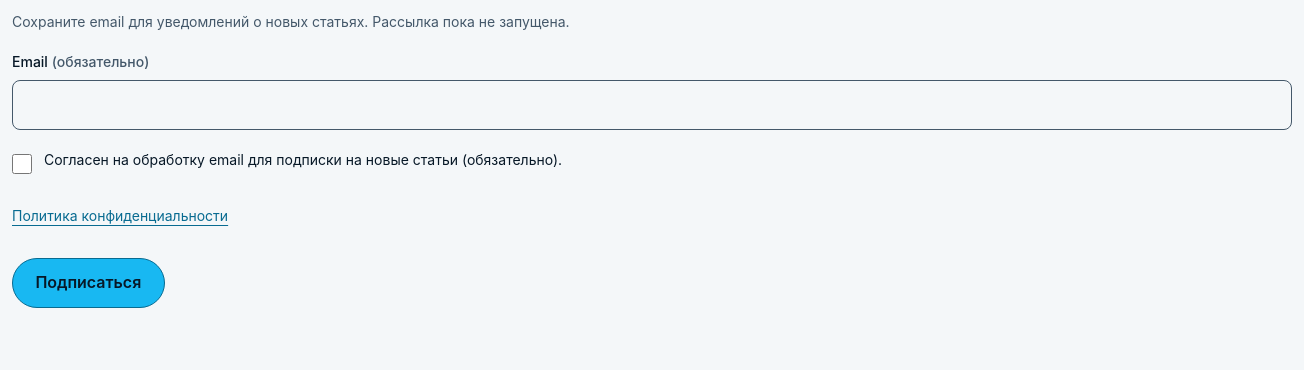
Test: public forms › submits newsletter and focuses only a confirmed success
This screenshot has width=1304, height=370.
Type "reader@example.com" into the field labelled "Email (обязательно)" at (652, 105), box [12, 80, 1292, 130]
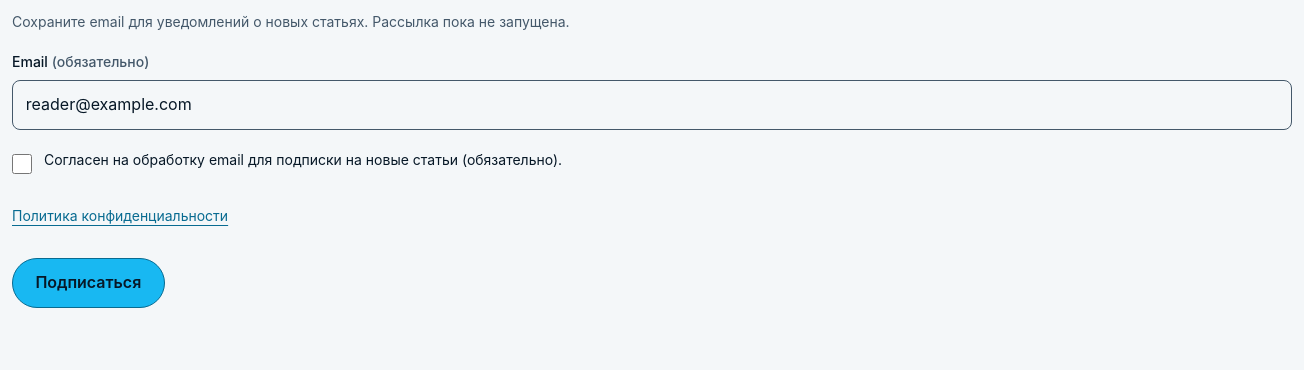
Click the checkbox at (22, 164), box [12, 154, 32, 174]
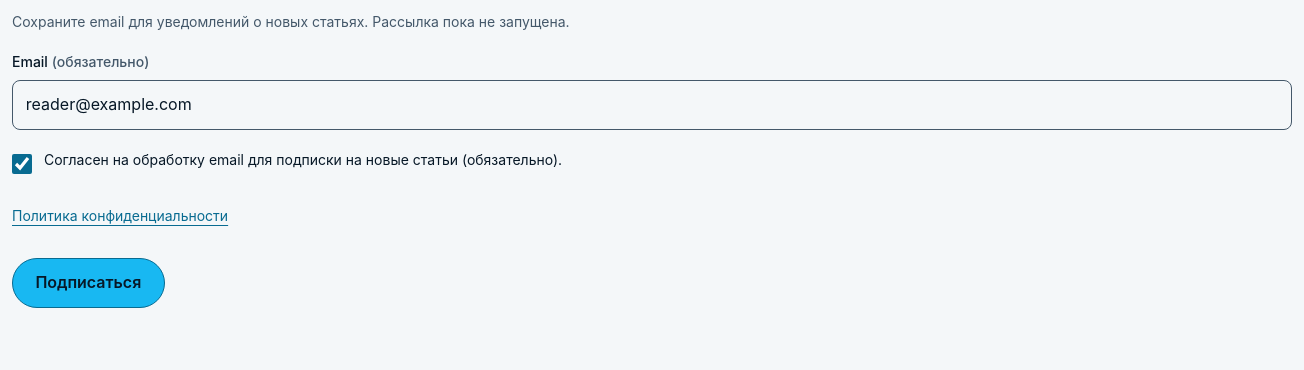
Click the button at (88, 283), box [12, 258, 165, 308]
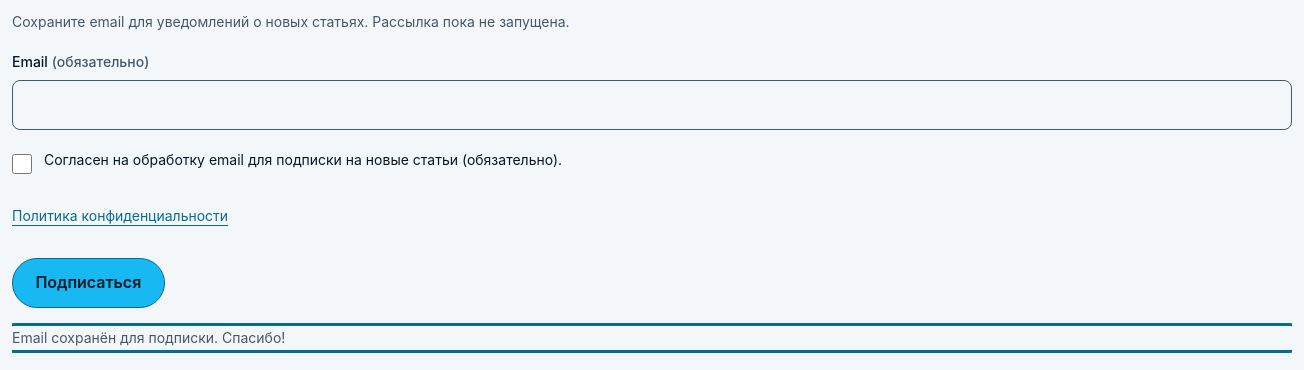
Expected: the checkbox is not checked, [12, 154, 32, 174]
Expected: the message shows "Спасибо", [12, 329, 285, 346]
Expected: the field labelled "Email (обязательно)" is empty, [12, 80, 1292, 130]
